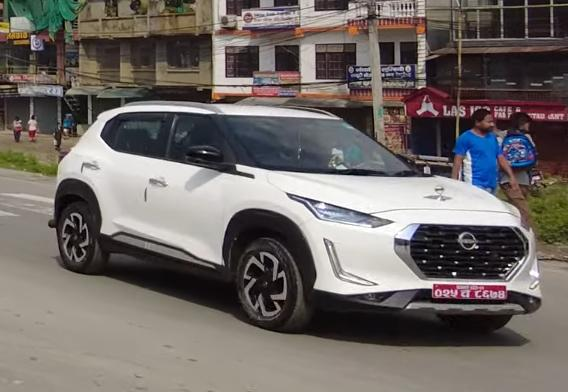car: (44, 90, 549, 349)
